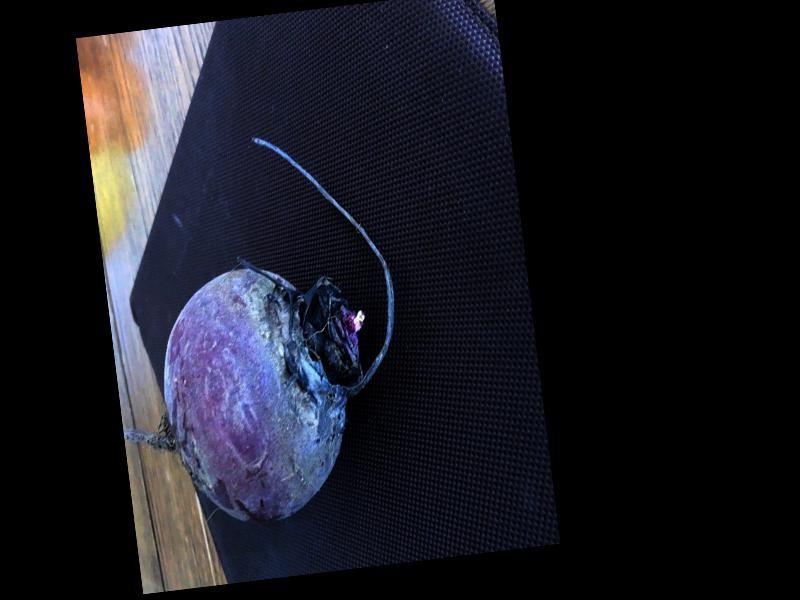Beet: (91, 122, 419, 538)
